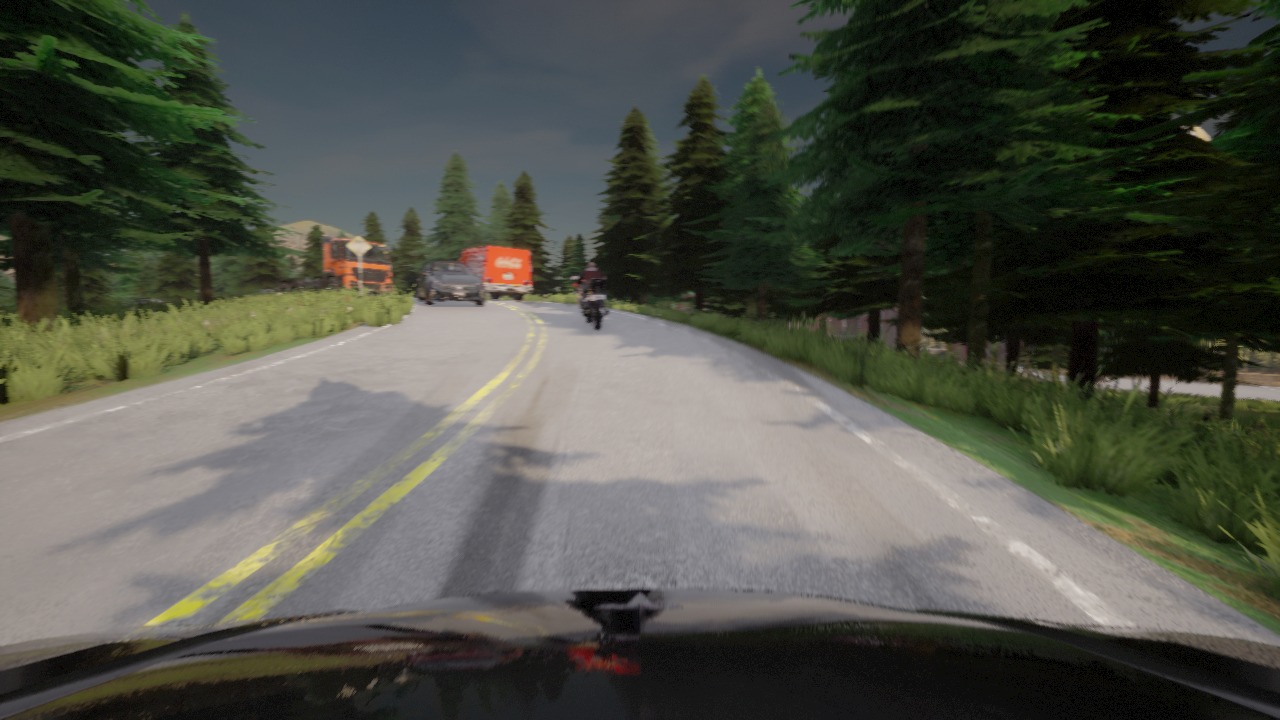cyclist: (0, 588, 1279, 719), (274, 237, 391, 295), (458, 245, 532, 300), (417, 261, 485, 305), (571, 275, 609, 330), (120, 297, 171, 304), (247, 287, 273, 295), (1095, 375, 1105, 381)
